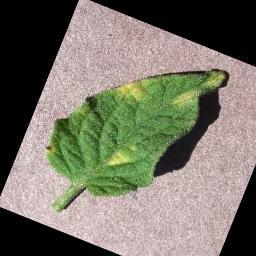Leaf_Mold: (112, 68, 155, 107), (170, 80, 204, 114), (104, 142, 135, 173)
